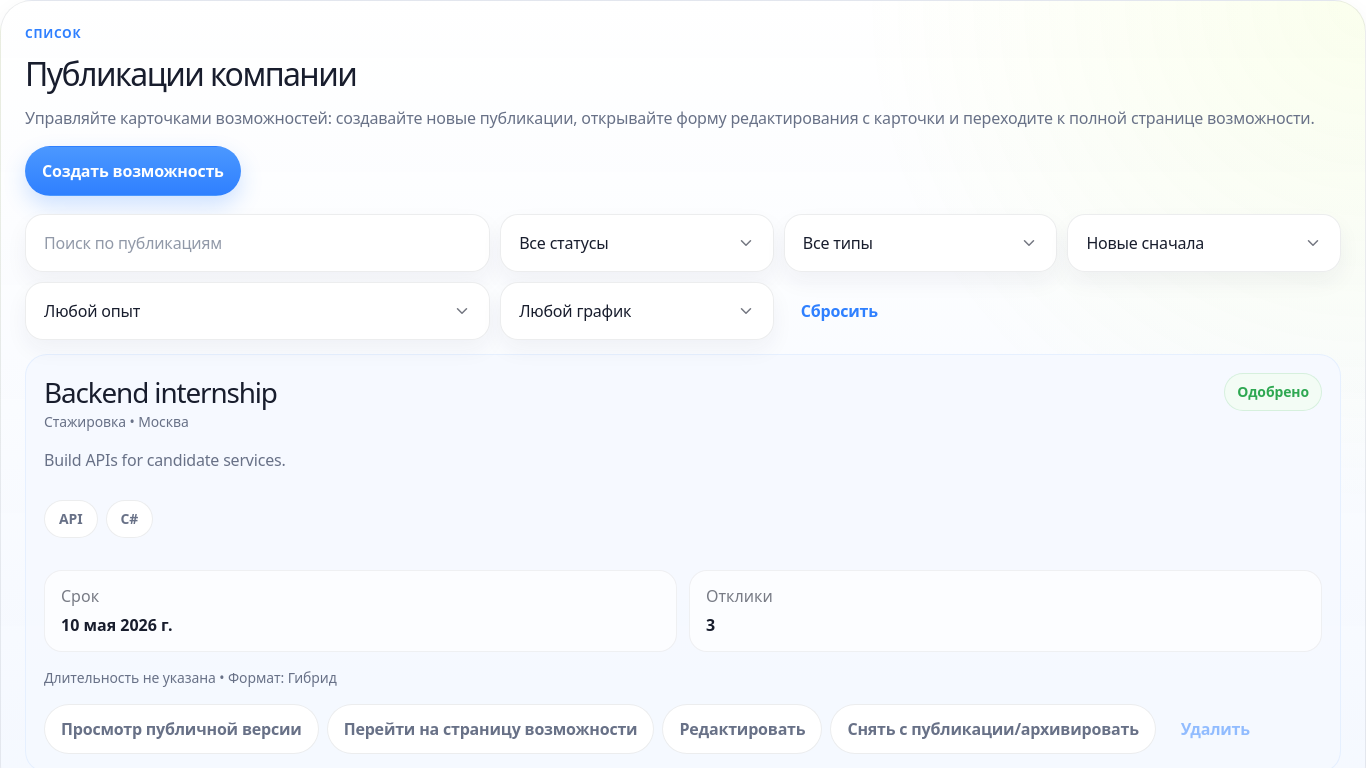
Test: CompanyOpportunitiesSection › shows a detail-page link on the card and opens the edit form from the card action
The width and height of the screenshot is (1366, 768).
Check: the heading "Backend internship" is shown, box [44,373,277,412]
Click the button "Редактировать". click: click(742, 729)
box: [662,704,822,754]
(page scrolled)
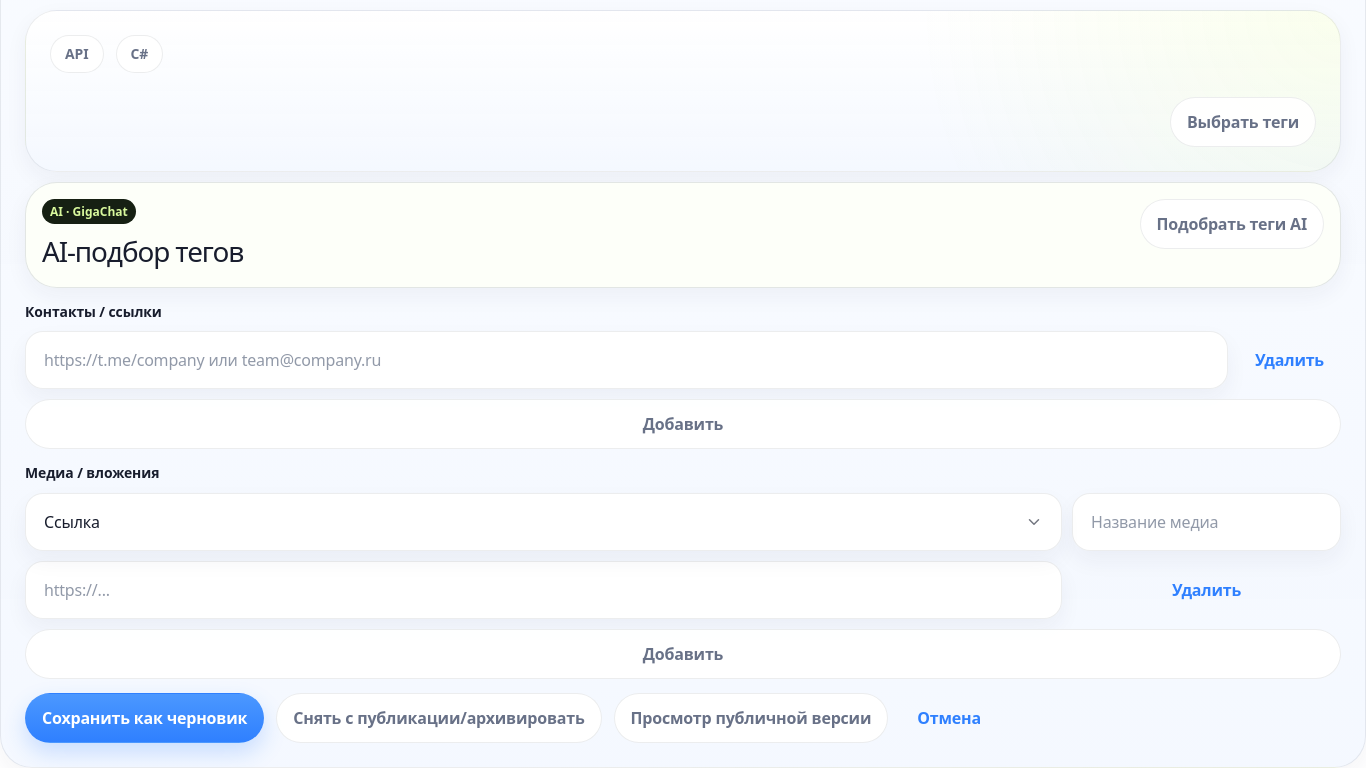
Check: the button "Сохранить как черновик" is shown, box [25,693,264,743]
